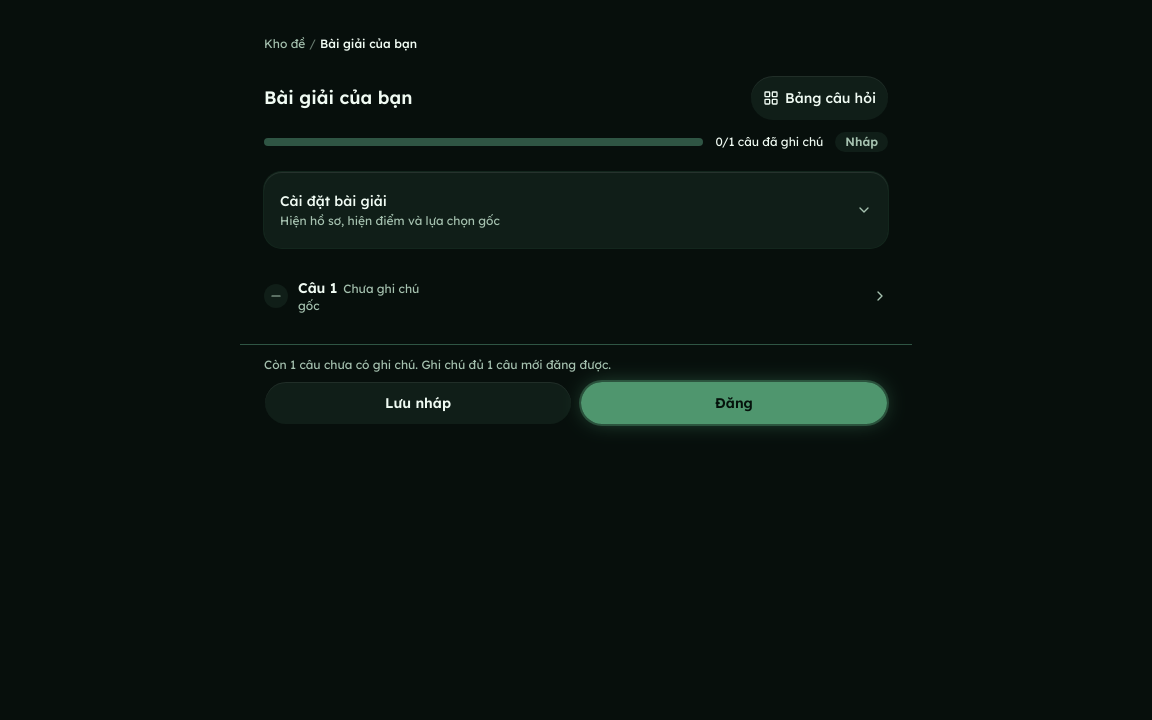
Test case: SolutionEditorScreen — NoteSheet, DD-U5 dirty-close (Required Test #4, Reference Contract #24) › Lưu hỏng (belowWordCount) trên hộp thoại: hộp thoại vẫn mở, error đúng chữ, textarea không đổi
Step 1. Click the button with aria-label "Câu 1," → (318, 288), box [264,268,888,324]
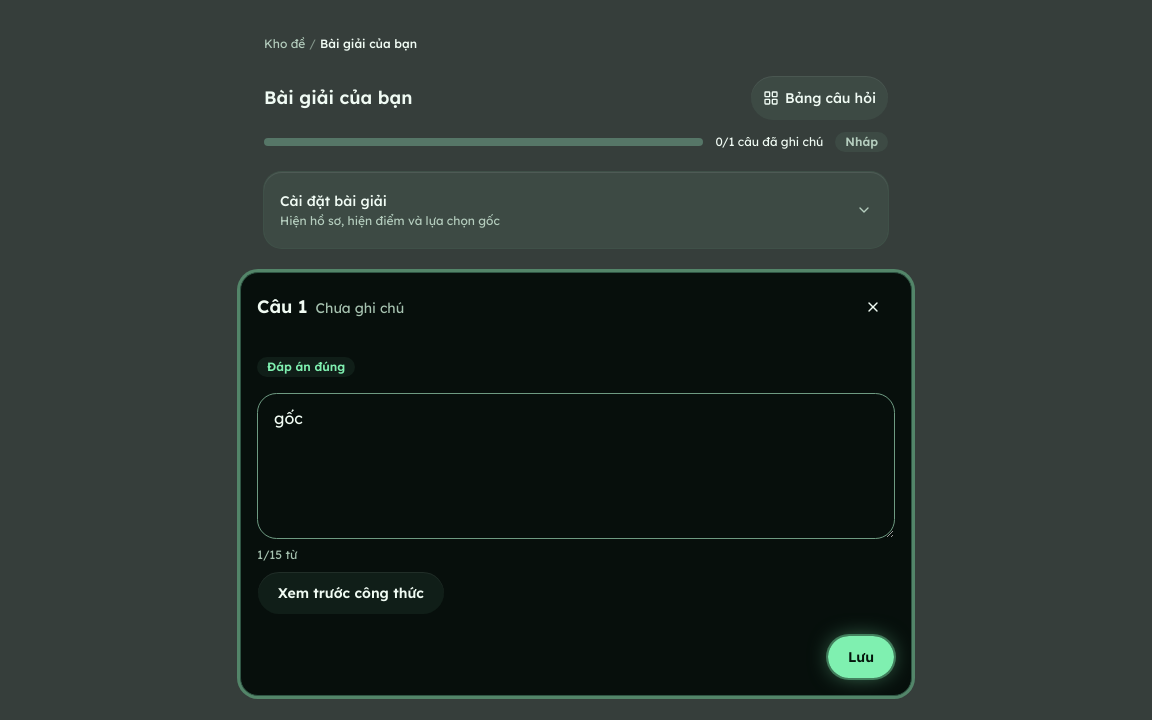
Step 2. Replace the text in the text box with "gốc đã sửa" → (576, 466), box [257,393,895,539]
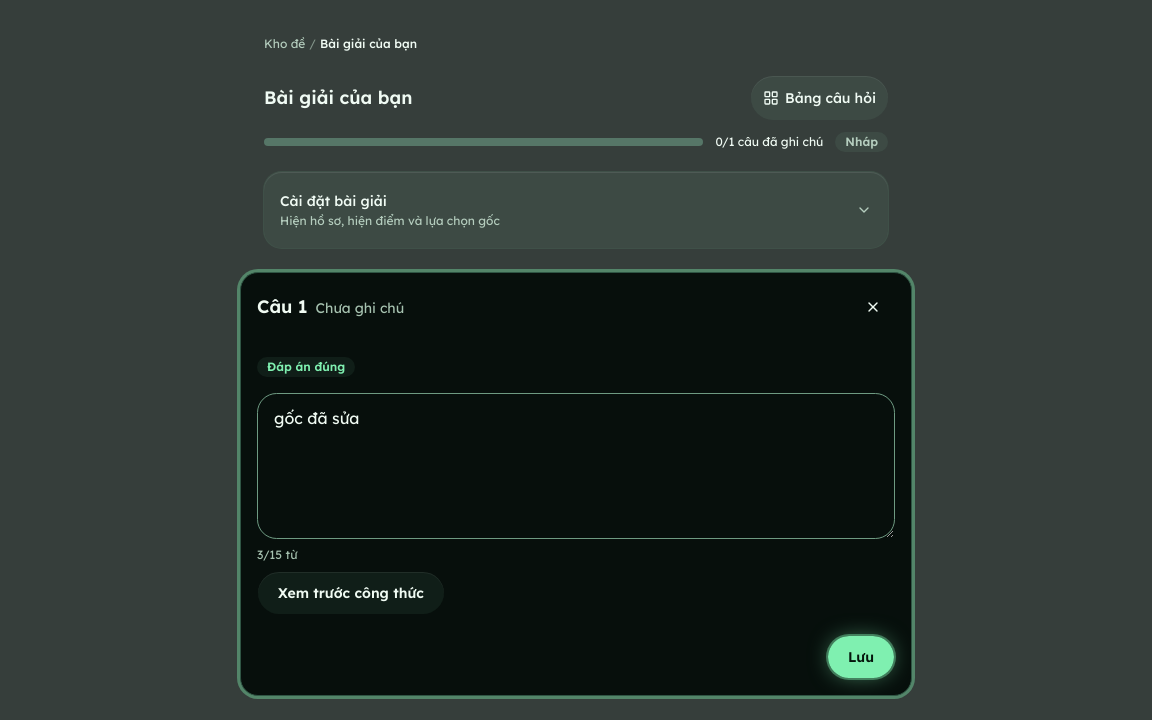
Step 3. Click the button named "Đóng" → (873, 307), box [851,285,895,329]
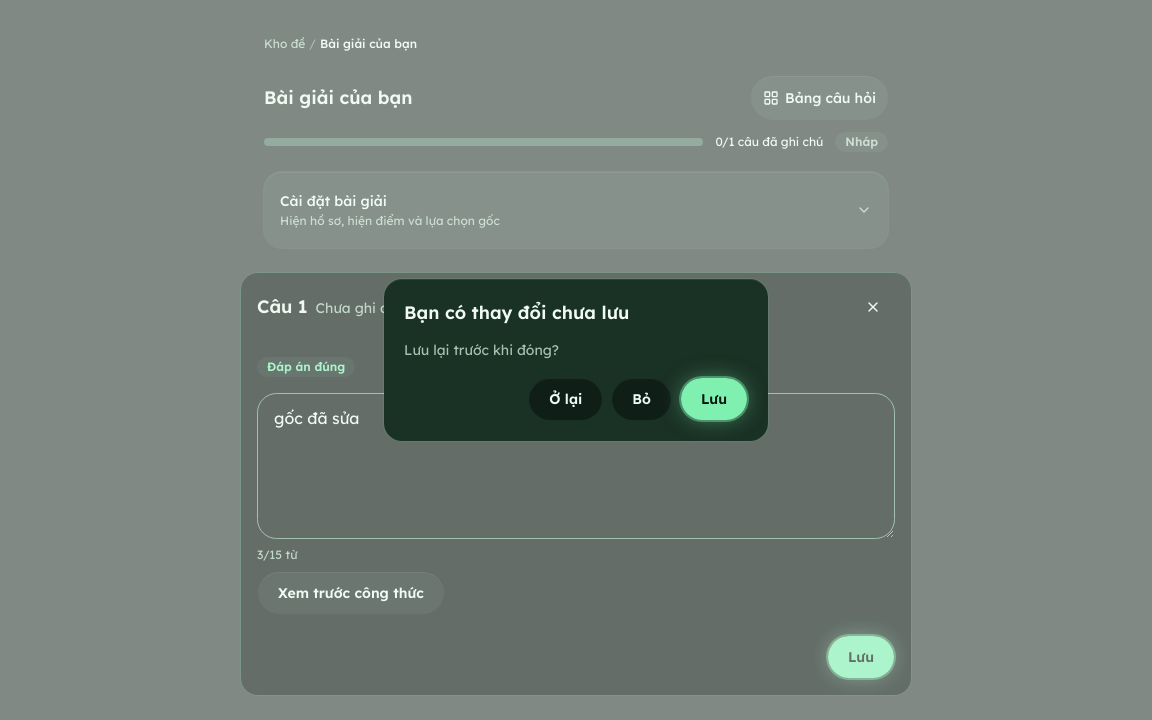
Step 4. Click the button "Lưu" → (714, 399), box [680,377,748,421]
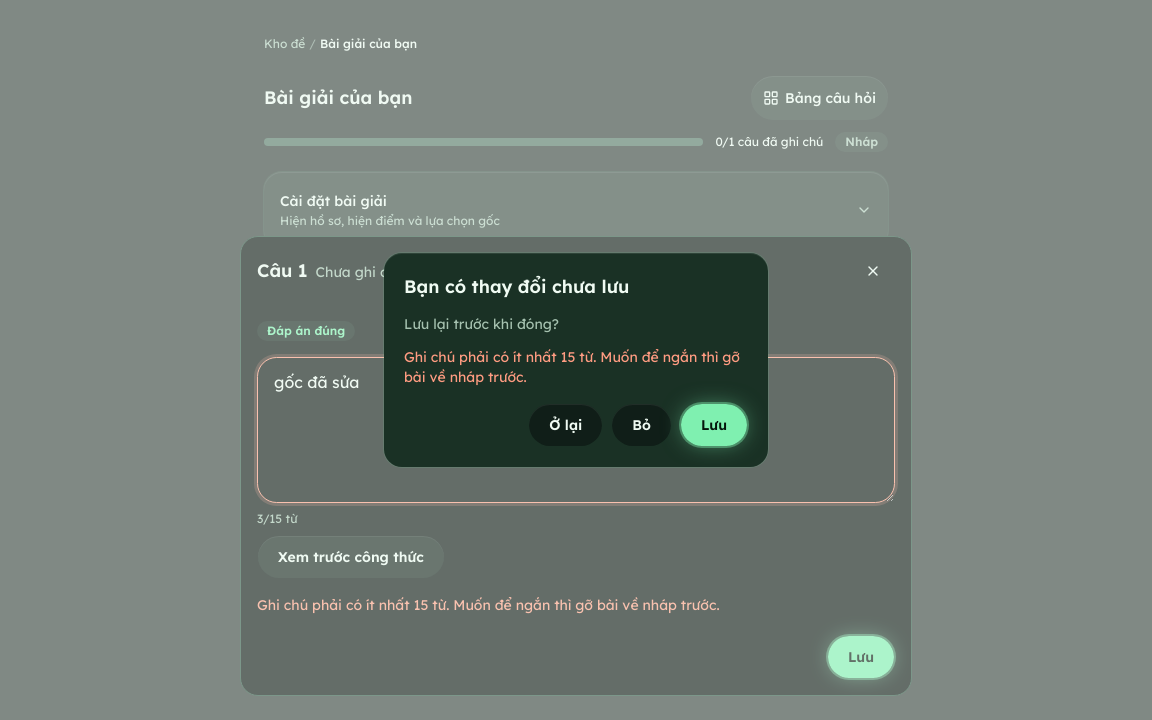
Check: the dialog "Bạn có thay đổi chưa lưu" is shown, box [384,253,768,467]
Check: the button "Lưu" is shown, box [680,403,748,447]
Check: the text "Ghi chú phải có ít nhất 15 từ. Muốn để ngắn thì gỡ bài về nháp trước." is shown, box [404,347,748,387]
